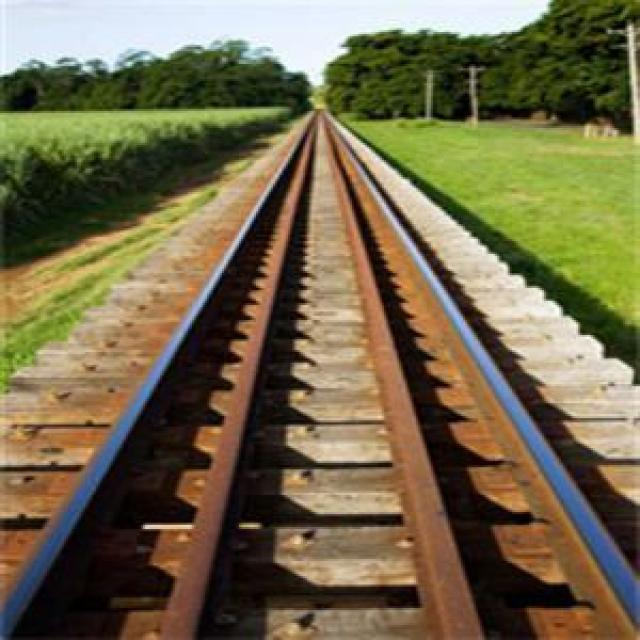rail: (1, 107, 640, 637)
